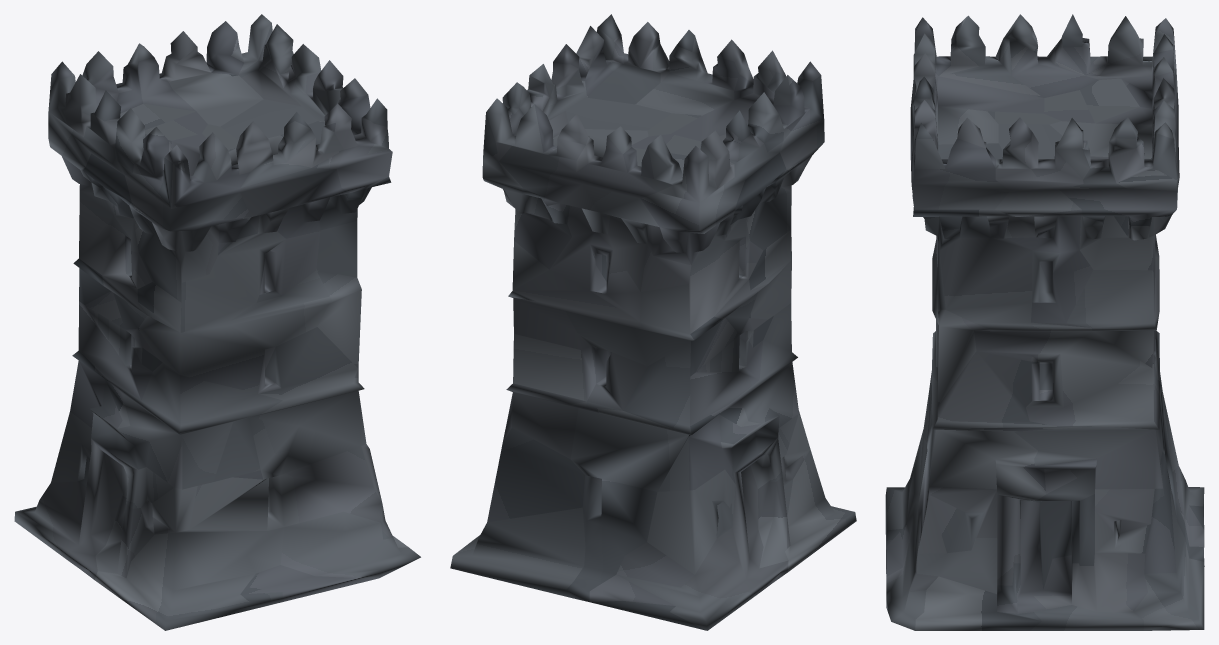
The model's file is castle_tower_medium_stone_lo.glb.
3 views of the same model, side by side, from view 1: azimuth 30°, elevation 25°; view 2: azimuth 150°, elevation 25°; view 3: azimuth 270°, elevation 25° (orthographic). The views are drawn at different scales.
Parts seen in each view (by area): view 1: tripo_node_2e26561f-4115-46ed-bfc1-a447273d9d5d; view 2: tripo_node_2e26561f-4115-46ed-bfc1-a447273d9d5d; view 3: tripo_node_2e26561f-4115-46ed-bfc1-a447273d9d5d.
Part boxes in pixels (x1,y1,x2,y2): tripo_node_2e26561f-4115-46ed-bfc1-a447273d9d5d: (14,14,420,630); tripo_node_2e26561f-4115-46ed-bfc1-a447273d9d5d: (450,14,856,630); tripo_node_2e26561f-4115-46ed-bfc1-a447273d9d5d: (885,14,1204,630).
Bounding box in the file's own units: 0.5671 × 0.9805 × 0.568.
Materials: 1 (1 with a texture image).
